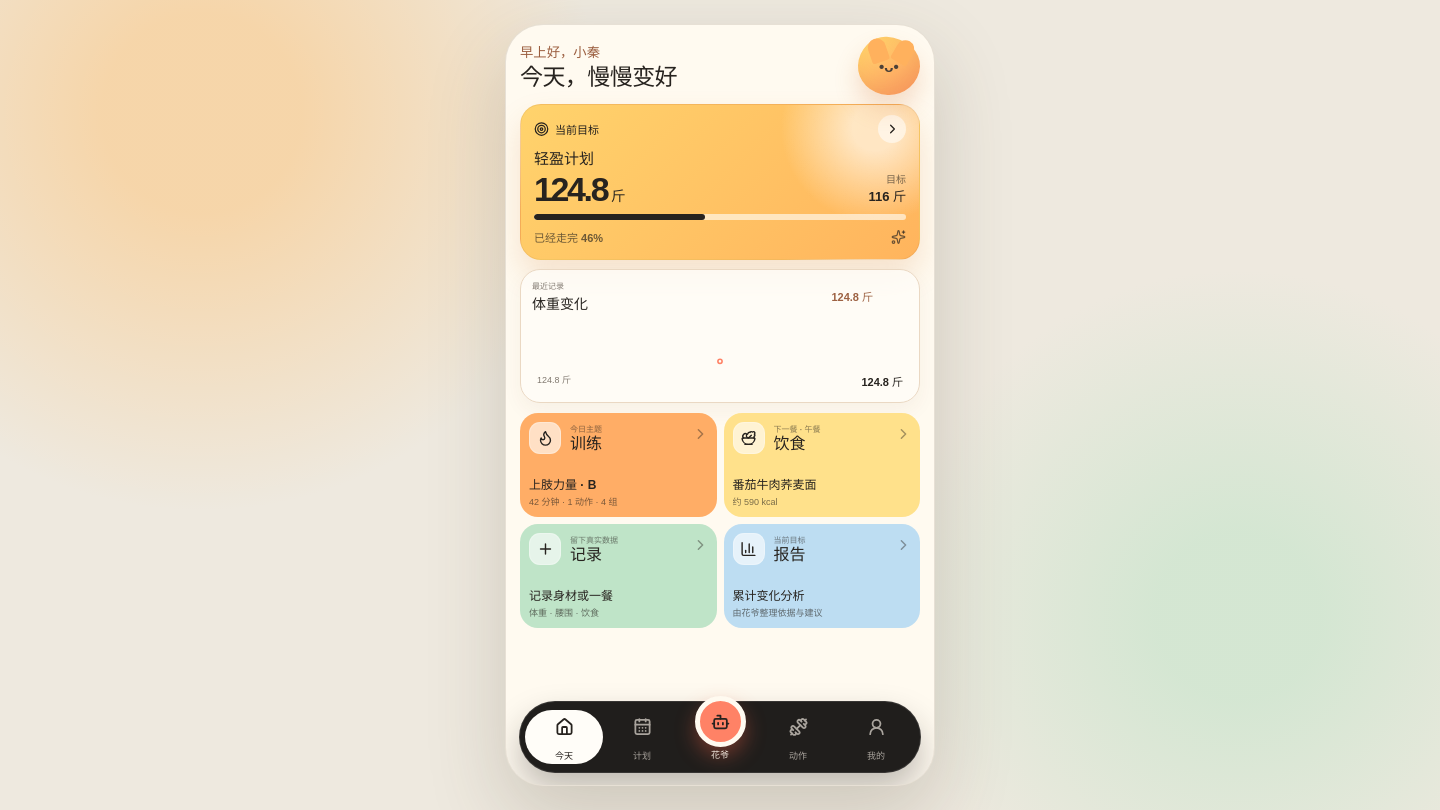
Scenario: App › opens today meal recommendations instead of the meal record drawer
The width and height of the screenshot is (1440, 810).
Expected: the text "124.8" is shown, [534, 170, 607, 208]
Step 1. Click the button "下一餐 · 午餐 饮食 番茄牛肉荞麦面 约 590 kcal" → click(822, 464), box [724, 412, 920, 516]
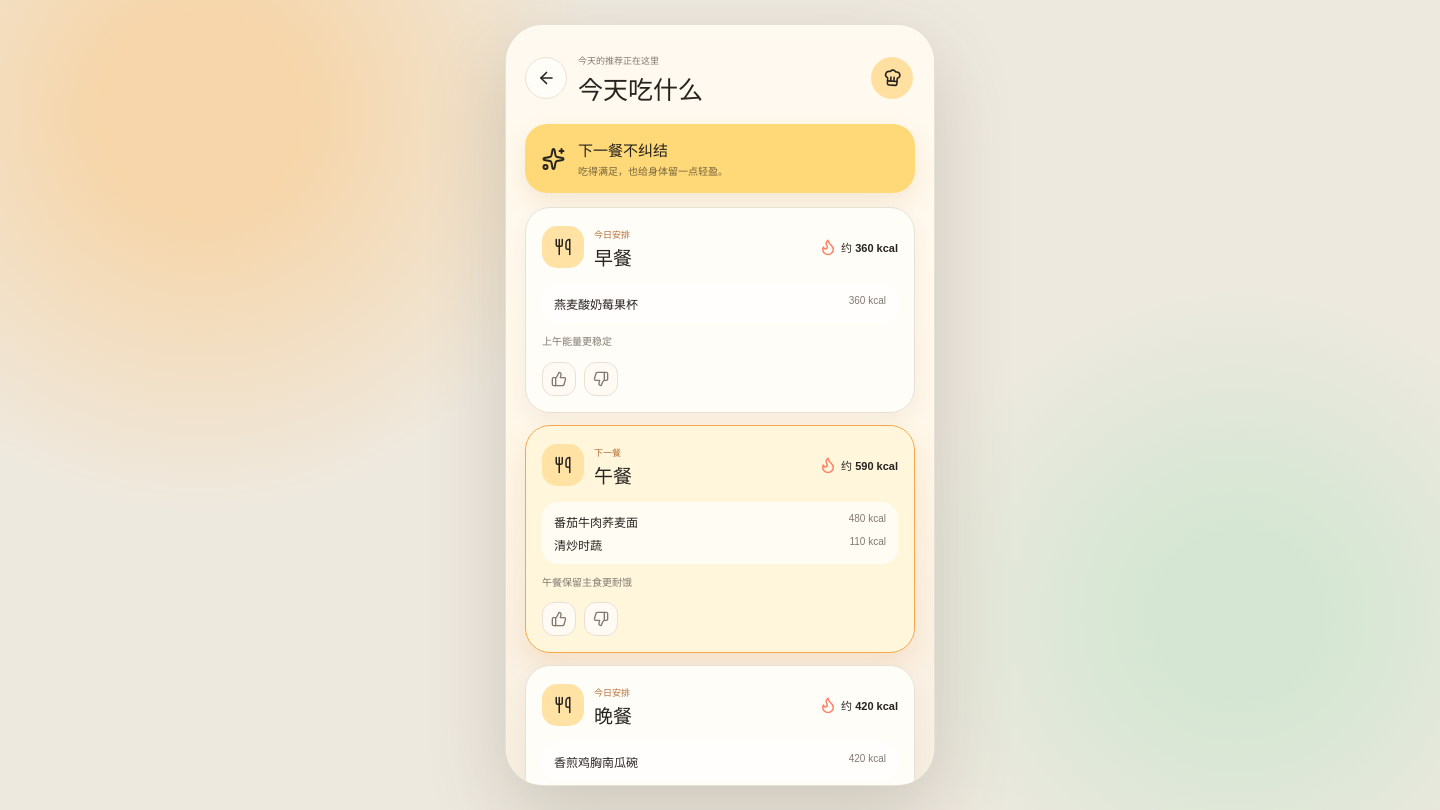
Result: the heading "今天吃什么" is shown at [578, 76, 703, 104]
Result: the heading "早餐" is shown at [594, 248, 632, 269]
Result: the heading "午餐" is shown at [594, 466, 632, 486]
